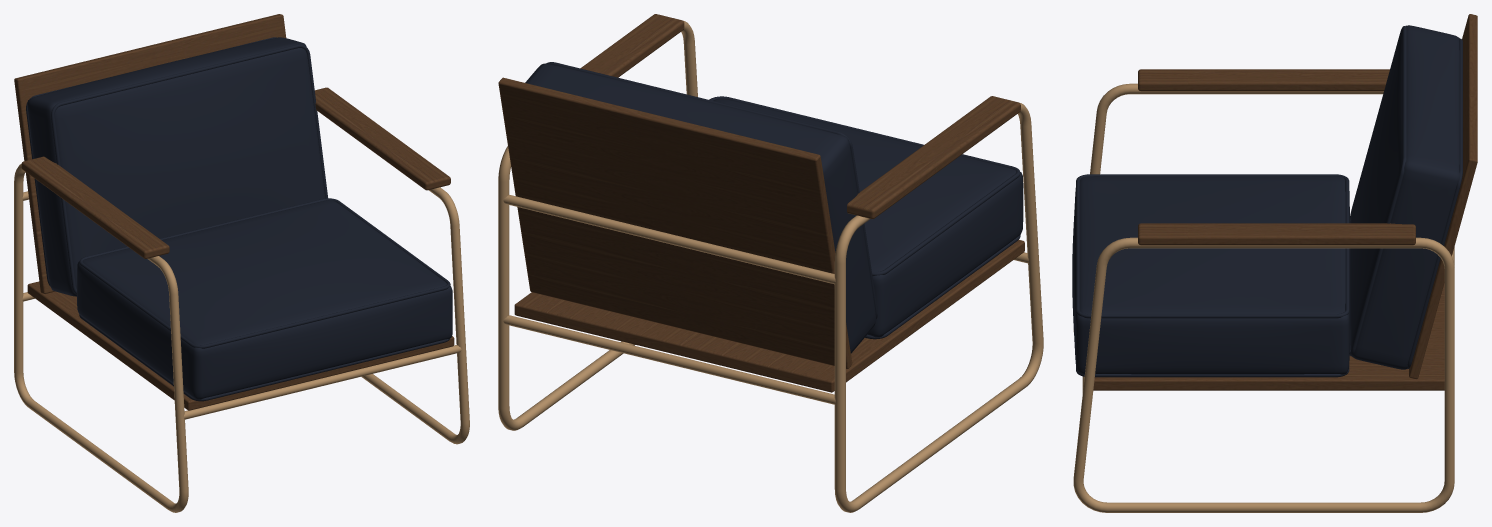
File: bedroom_chair.gltf
3 views of the same model, side by side, from view 1: azimuth 30°, elevation 25°; view 2: azimuth 150°, elevation 25°; view 3: azimuth 270°, elevation 25° (orthographic). The views are drawn at different scales.
Parts seen in each view (by area): view 1: BedroomChair_SeatCushion, BedroomChair_BackCushion, BedroomChair_BackPanel, BedroomChair_Frame_L, BedroomChair_SeatBoard, BedroomChair_ArmCap_L, BedroomChair_ArmCap_R, BedroomChair_Frame_R, BedroomChair_SeatCushion_Piping0, BedroomChair_RailFront, BedroomChair_BackCushion_Piping1, BedroomChair_SeatCushion_Piping1 (+1 smaller); view 2: BedroomChair_BackPanel, BedroomChair_SeatCushion, BedroomChair_BackCushion, BedroomChair_SeatBoard, BedroomChair_Frame_L, BedroomChair_ArmCap_L, BedroomChair_Frame_R, BedroomChair_RailBack, BedroomChair_RailRear, BedroomChair_ArmCap_R, BedroomChair_SeatCushion_Piping0, BedroomChair_BackCushion_Piping1 (+1 smaller); view 3: BedroomChair_SeatCushion, BedroomChair_BackCushion, BedroomChair_Frame_R, BedroomChair_SeatBoard, BedroomChair_ArmCap_R, BedroomChair_ArmCap_L, BedroomChair_BackPanel, BedroomChair_SeatCushion_Piping0, BedroomChair_Frame_L, BedroomChair_BackCushion_Piping1, BedroomChair_BackCushion_Piping0, BedroomChair_SeatCushion_Piping1.
Part boxes in pixels (x1,y1,x2,y2): BedroomChair_SeatCushion: (77, 200, 452, 399); BedroomChair_BackCushion: (27, 37, 325, 296); BedroomChair_BackPanel: (14, 14, 286, 293); BedroomChair_Frame_L: (14, 163, 188, 512); BedroomChair_SeatBoard: (27, 281, 454, 410); BedroomChair_ArmCap_L: (21, 156, 169, 258); BedroomChair_ArmCap_R: (314, 87, 450, 190); BedroomChair_Frame_R: (361, 187, 469, 444); BedroomChair_SeatCushion_Piping0: (79, 198, 450, 348); BedroomChair_RailFront: (184, 345, 461, 419); BedroomChair_BackCushion_Piping1: (51, 44, 327, 294); BedroomChair_SeatCushion_Piping1: (79, 314, 449, 401); BedroomChair_BackPanel: (498, 77, 852, 368); BedroomChair_SeatCushion: (713, 98, 1023, 337); BedroomChair_BackCushion: (525, 63, 876, 353); BedroomChair_SeatBoard: (514, 240, 1024, 392); BedroomChair_Frame_L: (834, 102, 1043, 512); BedroomChair_ArmCap_L: (847, 96, 1020, 219); BedroomChair_Frame_R: (498, 20, 697, 430); BedroomChair_RailBack: (503, 194, 835, 284); BedroomChair_RailRear: (503, 315, 835, 404); BedroomChair_ArmCap_R: (580, 14, 684, 77); BedroomChair_SeatCushion_Piping0: (709, 96, 1020, 275); BedroomChair_BackCushion_Piping1: (547, 62, 877, 318); BedroomChair_SeatCushion: (1072, 176, 1350, 374); BedroomChair_BackCushion: (1350, 25, 1460, 369); BedroomChair_Frame_R: (1073, 237, 1454, 512); BedroomChair_SeatBoard: (1093, 283, 1444, 390); BedroomChair_ArmCap_R: (1138, 223, 1415, 245); BedroomChair_ArmCap_L: (1138, 69, 1389, 91); BedroomChair_BackPanel: (1409, 14, 1477, 379); BedroomChair_SeatCushion_Piping0: (1076, 174, 1349, 318); BedroomChair_Frame_L: (1073, 83, 1454, 331); BedroomChair_BackCushion_Piping1: (1349, 26, 1406, 356); BedroomChair_BackCushion_Piping0: (1407, 38, 1462, 368); BedroomChair_SeatCushion_Piping1: (1076, 366, 1349, 377).
Bounding box in the file's own units: 0.83 × 0.8028 × 0.8458.
Materials: 3 (1 with a texture image).
